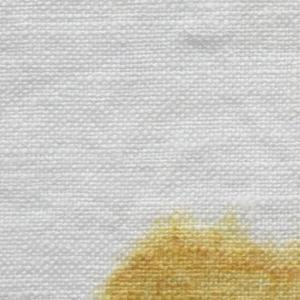Oil Stain: (99, 203, 300, 300)
